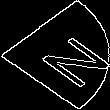N_NW: (10, 23, 100, 87)
